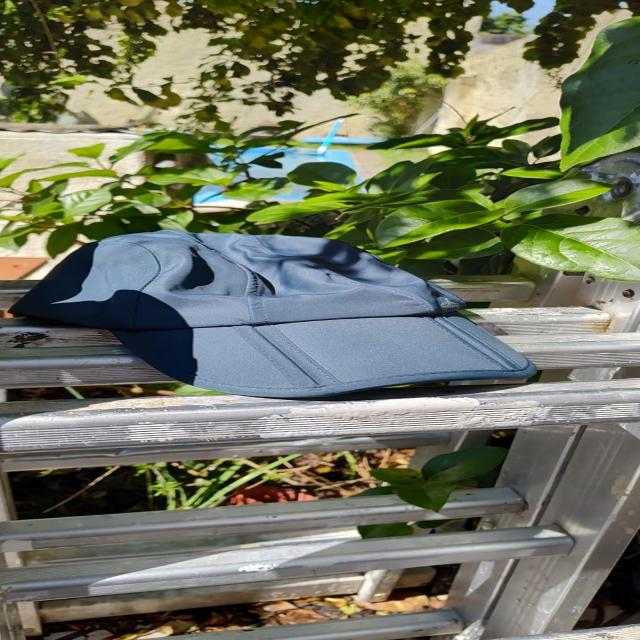Gorra: (22, 224, 552, 399)
